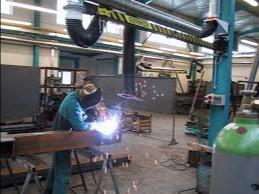controlled_fire: (73, 116, 129, 136)
